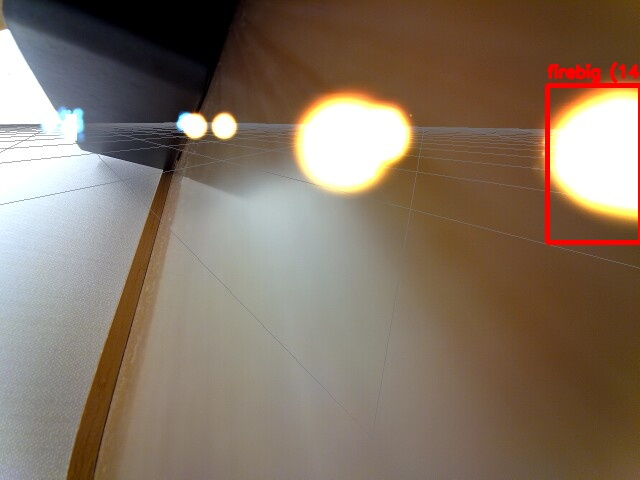firebig: (547, 85, 640, 242)
